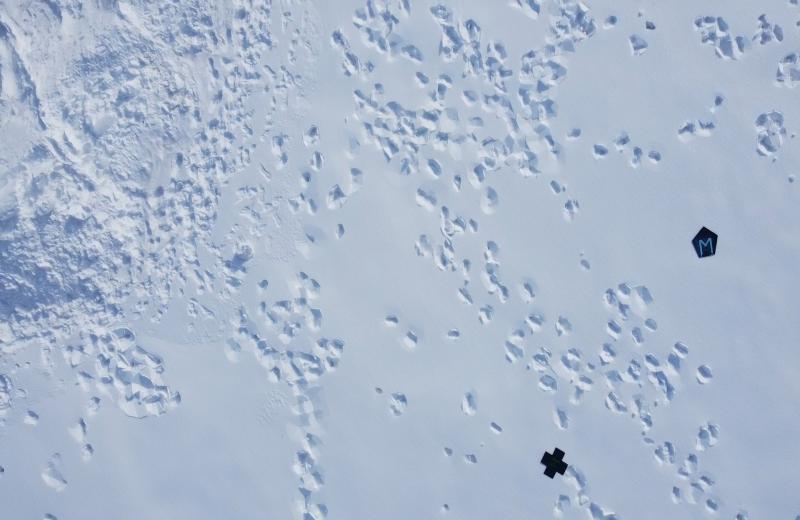Cross: (539, 445, 570, 484)
Pentagon: (687, 223, 722, 263)
